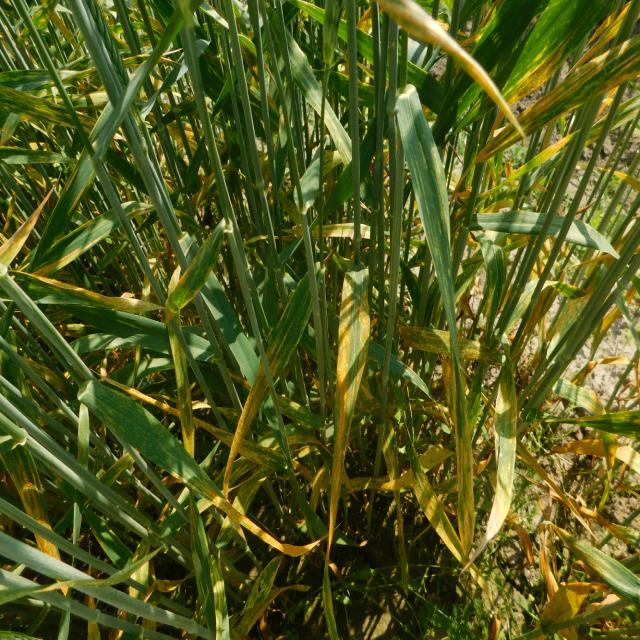wheat-yellowrust: (375, 0, 526, 144), (171, 451, 327, 558), (327, 273, 370, 569), (517, 34, 640, 137), (460, 355, 516, 574), (498, 17, 584, 107), (478, 132, 575, 207), (440, 356, 475, 561), (7, 269, 165, 314), (549, 526, 640, 604), (409, 438, 463, 565), (223, 362, 271, 500), (448, 123, 521, 207), (164, 224, 222, 327), (0, 176, 61, 269), (265, 273, 312, 389), (565, 0, 633, 77), (230, 584, 311, 640), (1, 446, 53, 531), (91, 369, 179, 417), (229, 554, 285, 629), (569, 497, 640, 550), (168, 323, 194, 459), (33, 231, 112, 275), (1, 85, 77, 128), (544, 582, 609, 624), (210, 554, 230, 640), (66, 167, 96, 222), (278, 393, 321, 431), (240, 440, 289, 472), (232, 474, 270, 513), (398, 326, 450, 353), (468, 564, 495, 614), (0, 70, 53, 94), (459, 338, 505, 365), (193, 417, 233, 448), (422, 442, 455, 473), (340, 475, 386, 496), (35, 533, 62, 562), (57, 66, 98, 84), (61, 159, 80, 195), (216, 516, 233, 551), (76, 111, 98, 134), (131, 538, 150, 564), (228, 368, 250, 390), (130, 562, 149, 585), (124, 54, 151, 68), (86, 623, 101, 640)
